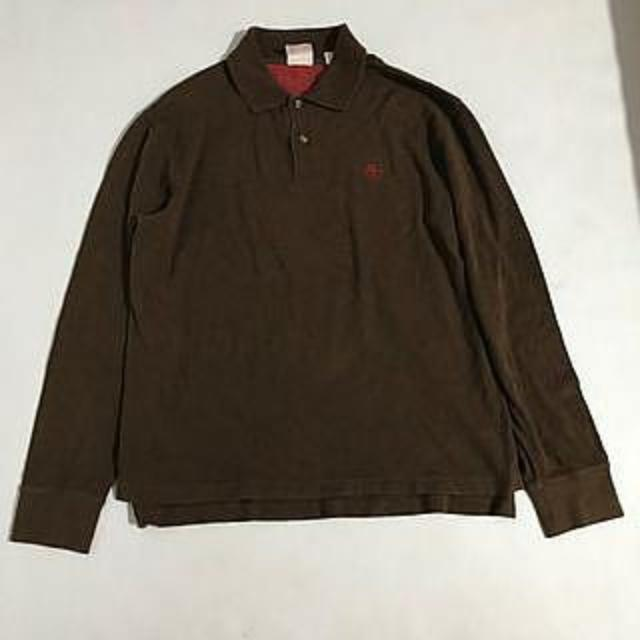SHIRT: (9, 14, 640, 565)
